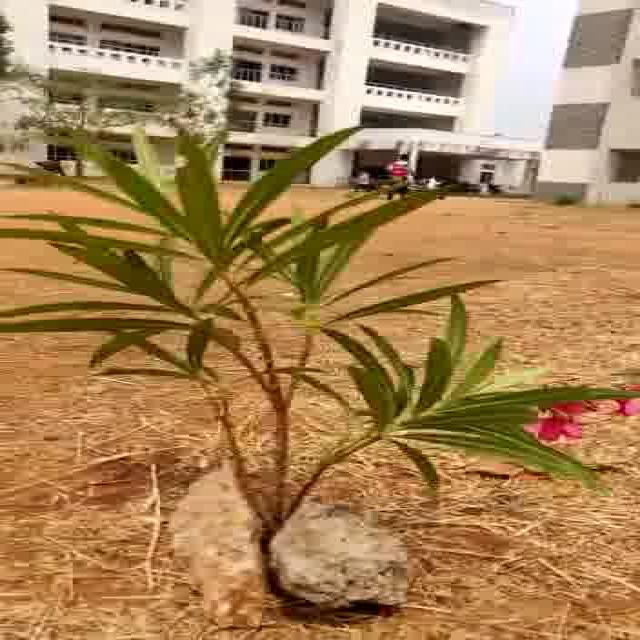Oleander: (40, 130, 632, 490)
